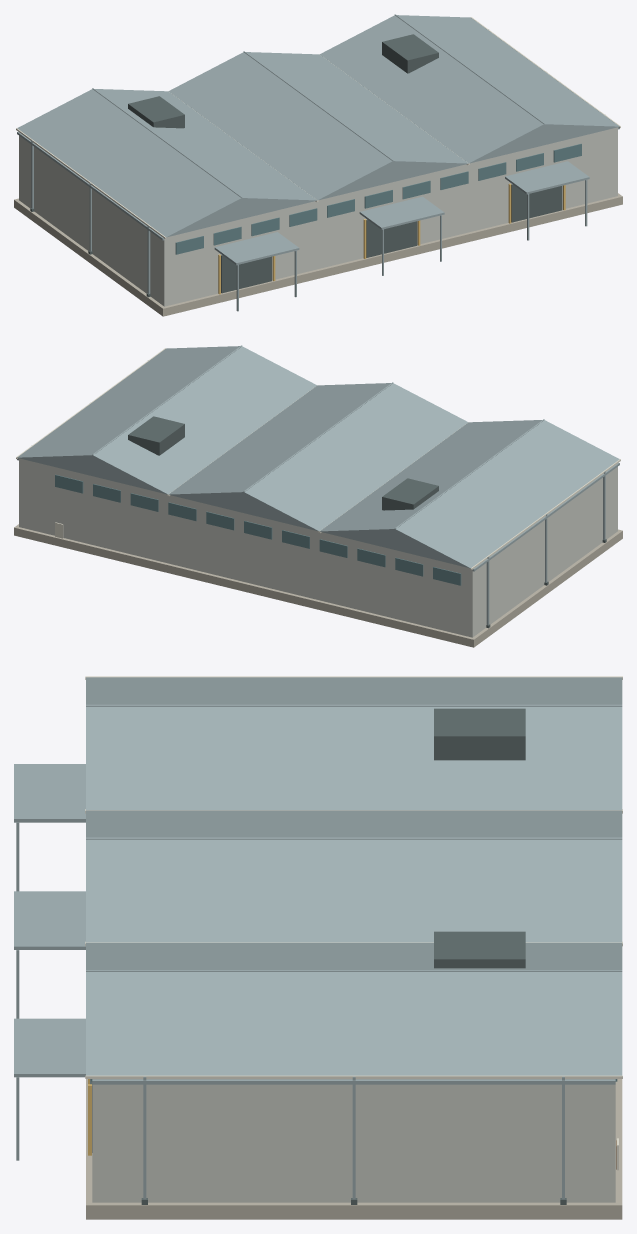
The picture shows the model from 3 angles, top to bottom: view 1: azimuth 30°, elevation 25°; view 2: azimuth 150°, elevation 25°; view 3: azimuth 270°, elevation 25°; orthographic projection. The views are drawn at different scales.
Size of the model in its own units: 73 by 15.5 by 46.55.
